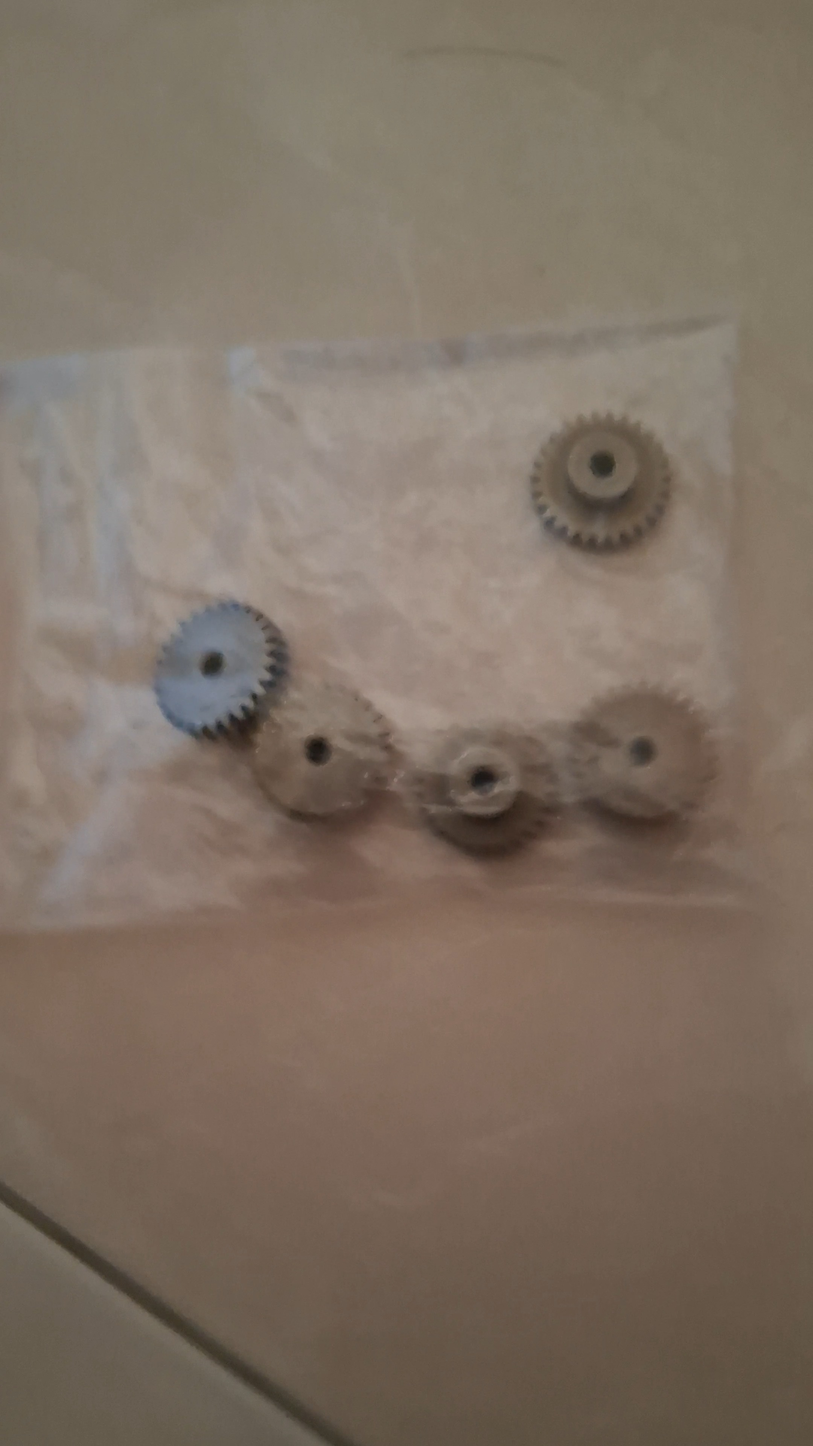spur gear: (570, 687, 716, 819), (531, 415, 670, 550), (252, 682, 390, 817), (412, 729, 560, 854), (155, 601, 288, 738)
